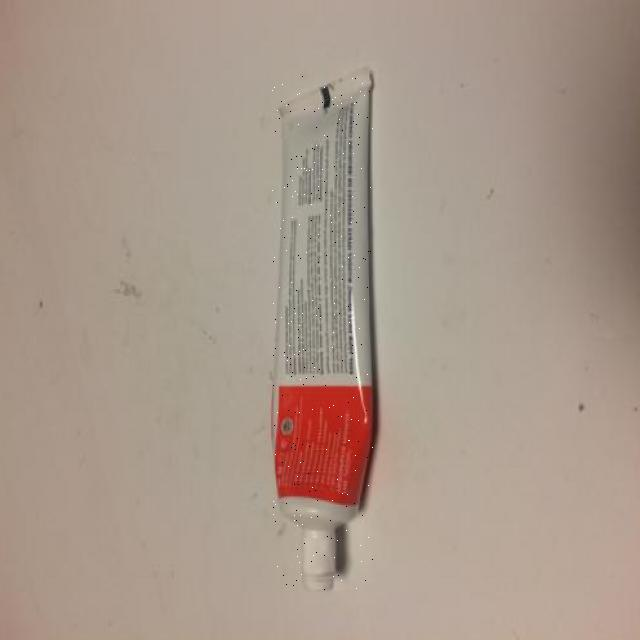plastic: (272, 72, 373, 590)
